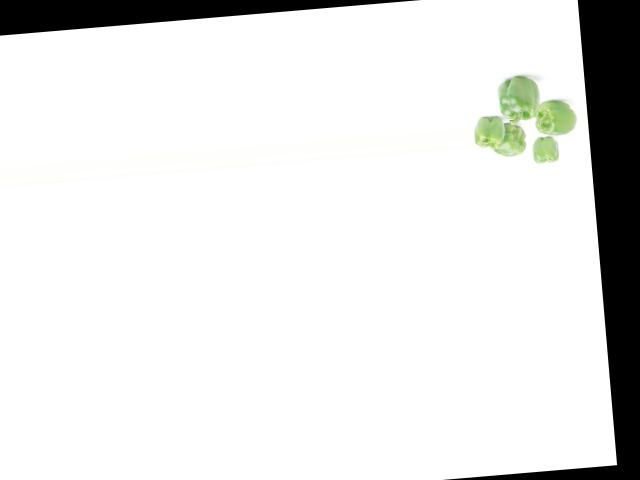bell_pepper: (471, 111, 508, 148)
